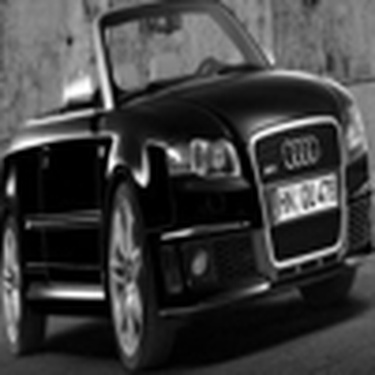car: (2, 3, 363, 358)
